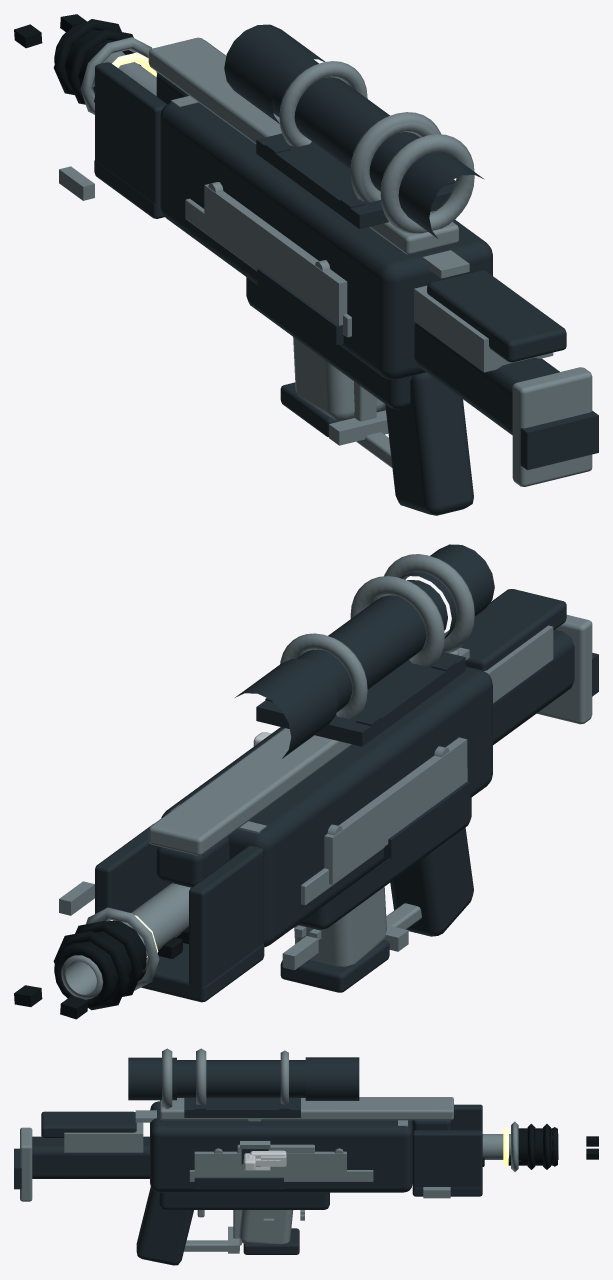
Rendered from weapon-8.glb.
The picture shows the model from 3 angles, top to bottom: view 1: azimuth 30°, elevation 25°; view 2: azimuth 150°, elevation 25°; view 3: azimuth 270°, elevation 25°; orthographic projection. The views are drawn at different scales.
Visible parts, largest first — view 1: body-dark, body-light, feed-light, barrel-assembly-cavity, barrel-assembly-light, feed-dark; view 2: body-dark, body-light, barrel-assembly-light, barrel-assembly-cavity, feed-light, feed-dark; view 3: body-dark, body-light, feed-light, barrel-assembly-cavity, barrel-assembly-light, bolt-trim, feed-dark.
Boxes of the visible parts, x1=… form: body-dark: x1=94, y1=24, x2=598, y2=515; body-light: x1=148, y1=37, x2=592, y2=486; feed-light: x1=293, y1=337, x2=388, y2=445; barrel-assembly-cavity: x1=14, y1=14, x2=140, y2=104; barrel-assembly-light: x1=59, y1=37, x2=157, y2=200; feed-dark: x1=280, y1=382, x2=385, y2=437; body-dark: x1=95, y1=544, x2=598, y2=1002; body-light: x1=148, y1=554, x2=592, y2=929; barrel-assembly-light: x1=59, y1=881, x2=318, y2=999; barrel-assembly-cavity: x1=14, y1=920, x2=188, y2=1019; feed-light: x1=294, y1=887, x2=408, y2=966; feed-dark: x1=280, y1=940, x2=389, y2=992; body-dark: x1=14, y1=1057, x2=482, y2=1265; body-light: x1=20, y1=1048, x2=453, y2=1251; feed-light: x1=228, y1=1210, x2=304, y2=1253; barrel-assembly-cavity: x1=482, y1=1124, x2=598, y2=1169; barrel-assembly-light: x1=423, y1=1121, x2=558, y2=1198; bolt-trim: x1=243, y1=1150, x2=286, y2=1171; feed-dark: x1=243, y1=1228, x2=299, y2=1254.
Size of the model in its own units: 0.316 by 0.4771 by 1.2.
